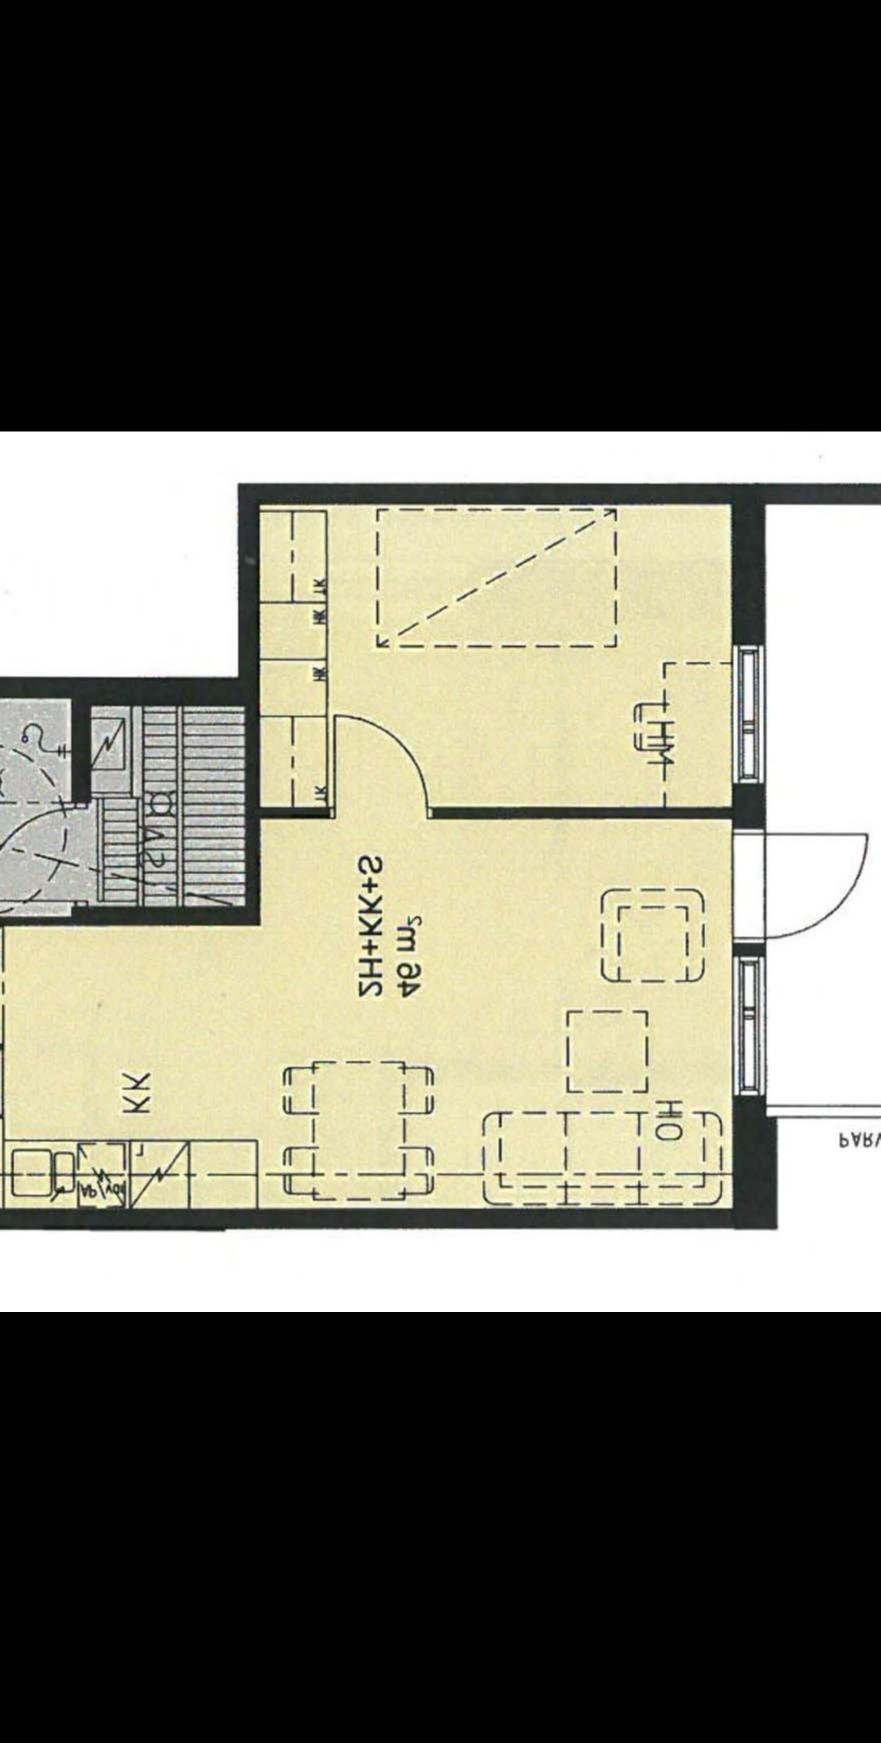bathroom: (0, 696, 88, 921)
door: (735, 821, 873, 953), (325, 704, 437, 825)
perimeter: (0, 485, 776, 1224)
window: (716, 629, 776, 794), (723, 947, 781, 1108)
